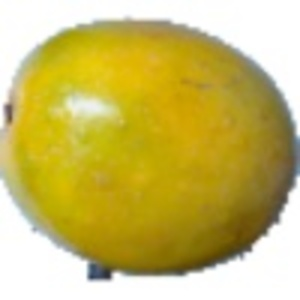maracujá: (1, 17, 300, 283)
